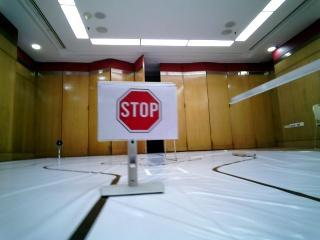stop: (102, 87, 176, 136)
